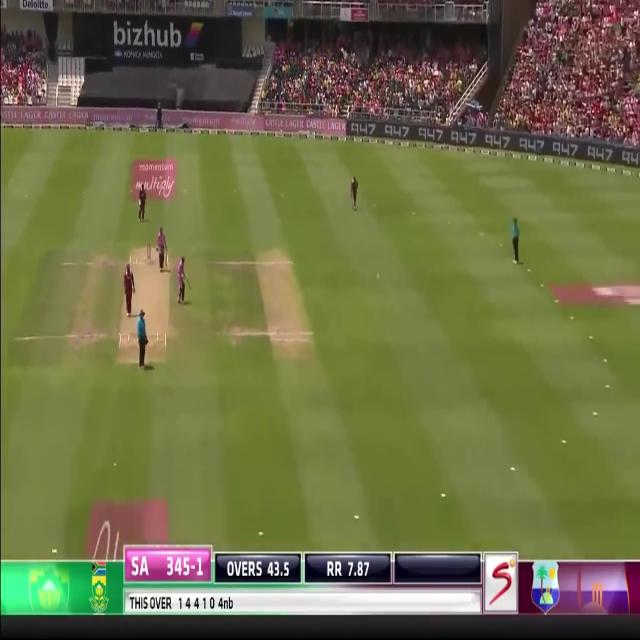Ball: (174, 247, 193, 309), (155, 227, 169, 271)
Fielder: (123, 264, 136, 316), (137, 178, 148, 222), (350, 172, 360, 207)
Umpire: (503, 213, 524, 263), (135, 310, 149, 369)
